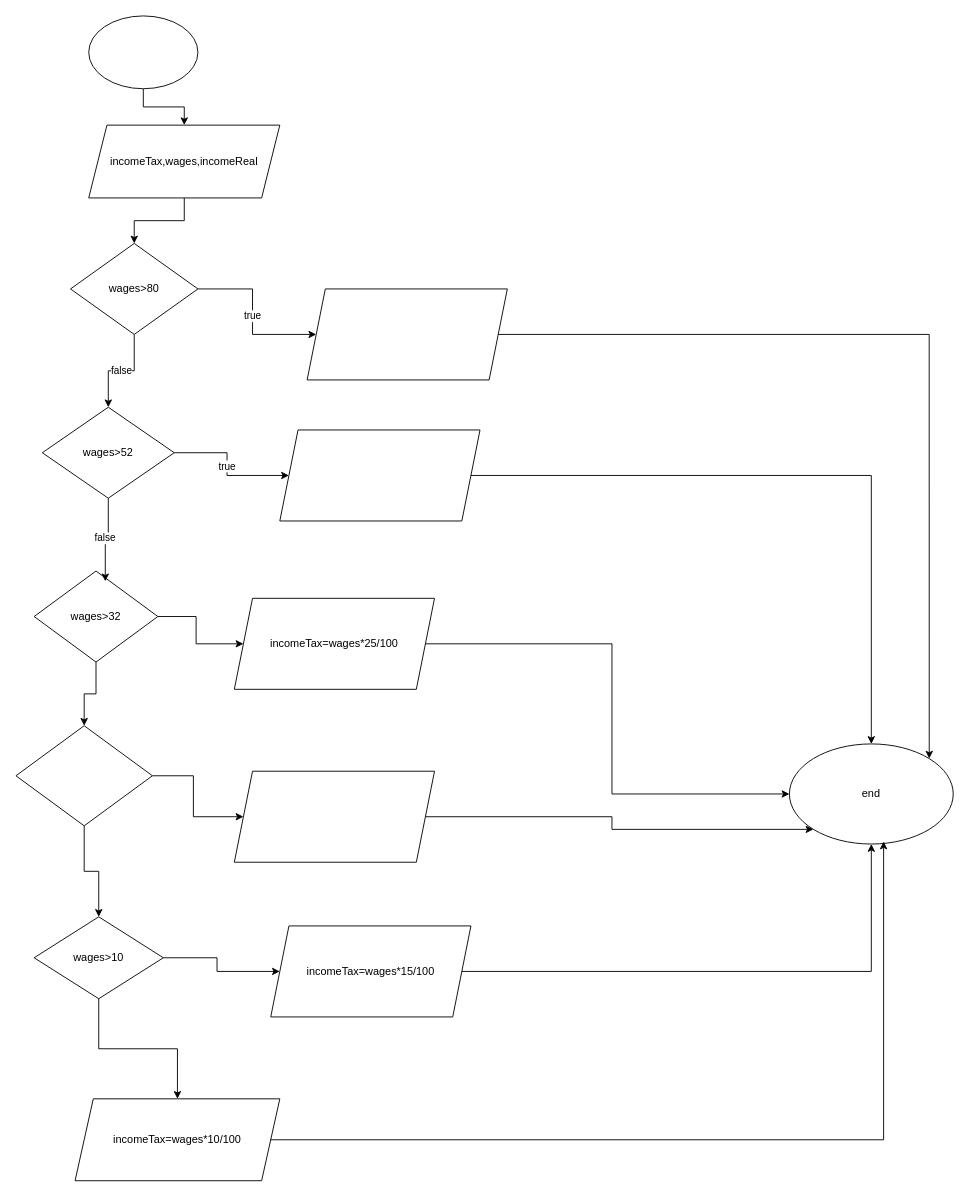
The diagram is 969 pixels wide and 1197 high, and some of its shapes have lost their labels. The shapes that lost their labels are listed below. From the top down, each one's box as (x1, y1, x2, y2) in pixels, then its label:
(88, 15, 198, 89): start
(306, 288, 507, 380): incomeTax=wages*35/100
(279, 429, 480, 521): incomeTax=wages*30/100
(15, 725, 152, 826): wages>18
(233, 770, 435, 862): incomeTax=wages*20/100
